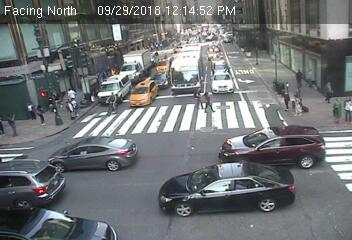car: (159, 165, 296, 217), (218, 125, 326, 171), (1, 206, 117, 240), (46, 139, 138, 173), (1, 158, 64, 202), (170, 41, 204, 96), (96, 75, 131, 104), (120, 52, 151, 81), (128, 80, 159, 107), (209, 73, 237, 94), (152, 72, 169, 87), (209, 60, 230, 72), (207, 46, 222, 60), (156, 58, 169, 74)
